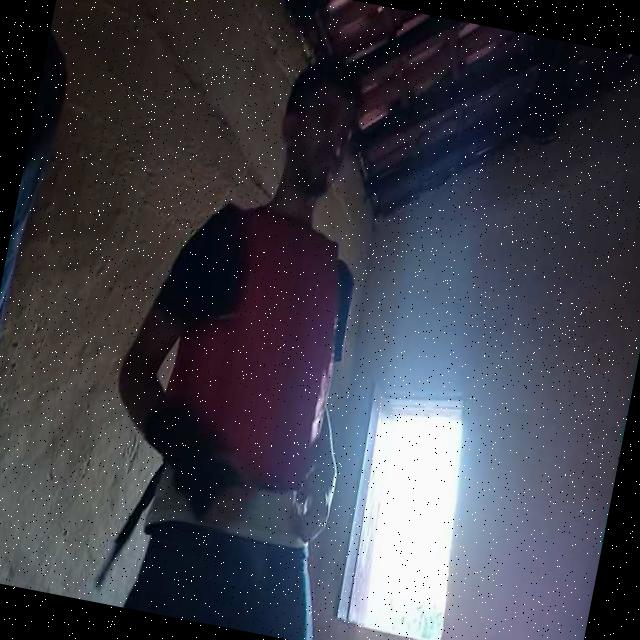colete: (166, 200, 364, 502)
pessoa: (73, 26, 436, 640)
